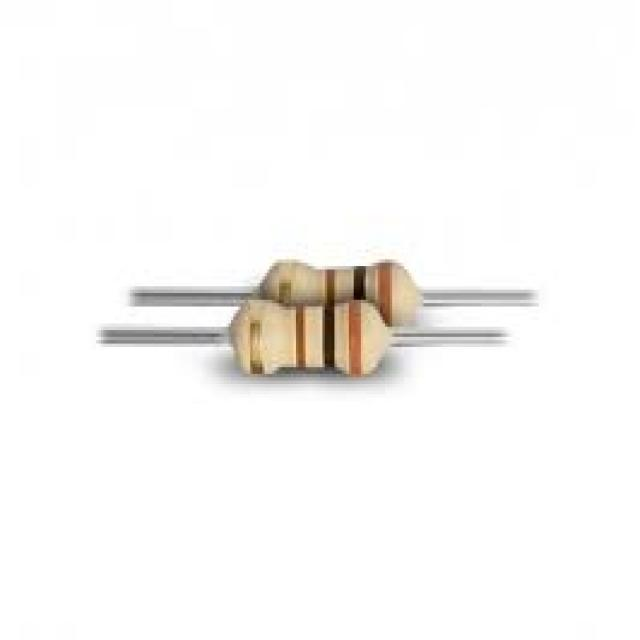Resistor: (256, 241, 419, 348), (228, 303, 393, 378)
